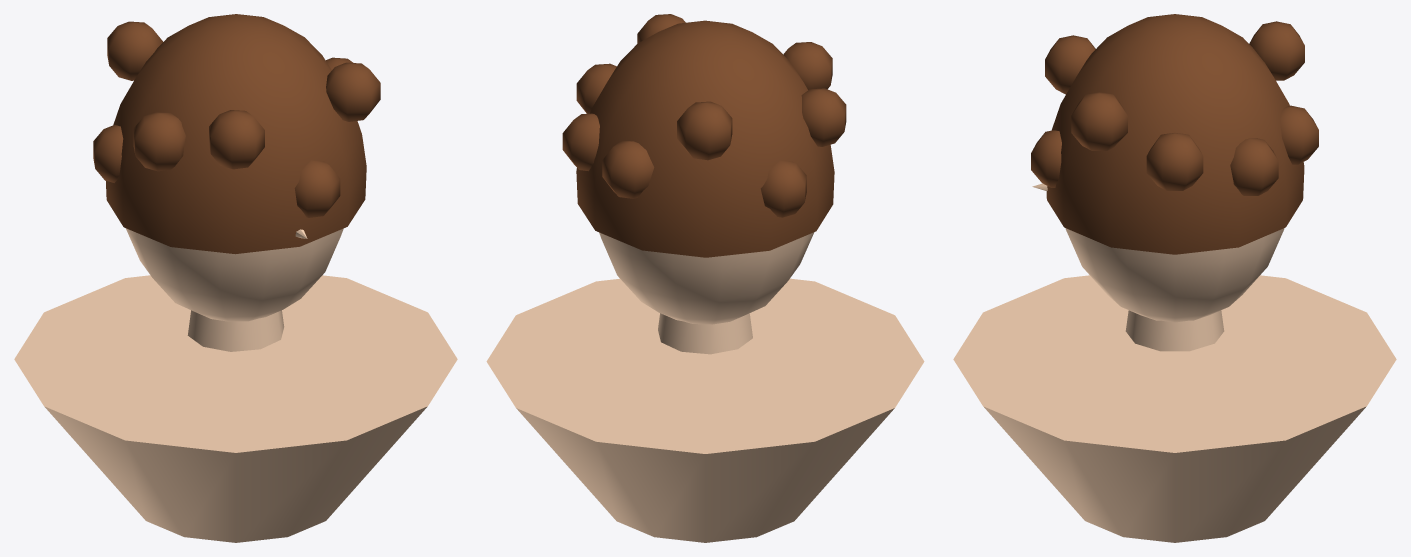
The model's file is raw_003.glb.
3 views of the same model, side by side, from view 1: azimuth 30°, elevation 25°; view 2: azimuth 150°, elevation 25°; view 3: azimuth 270°, elevation 25° (orthographic).
Bounding box in the file's own units: 1.89 × 2.24 × 1.89.
